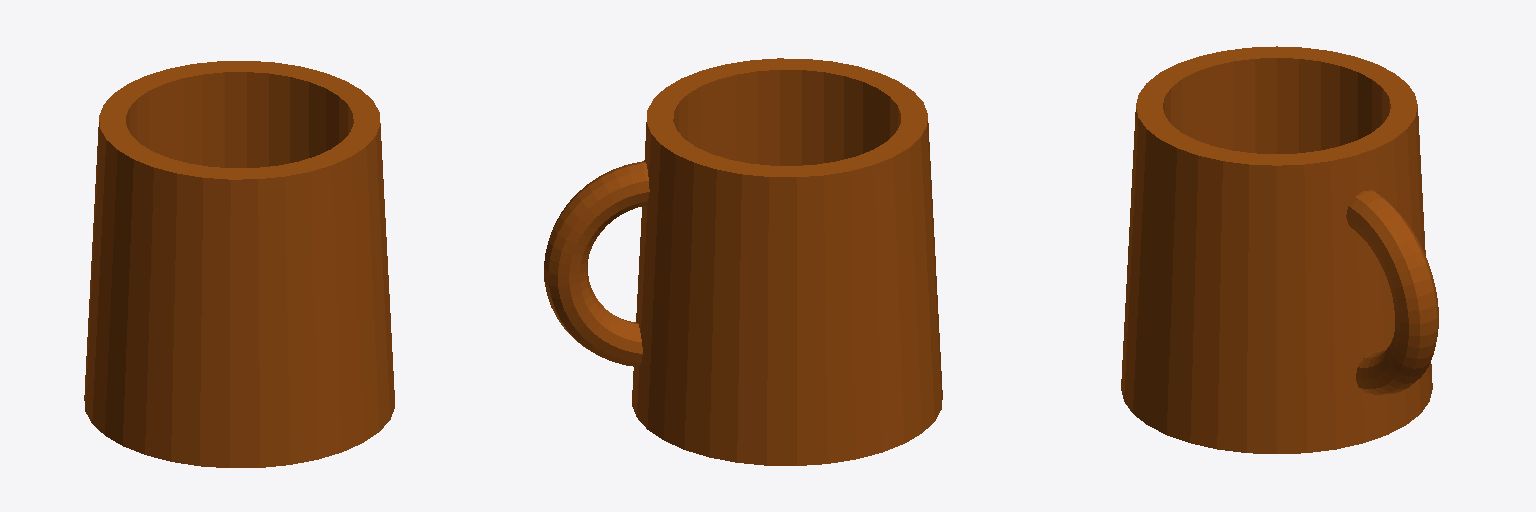
The model's file is cup.obj.
The picture shows the model from 3 angles: view 1: azimuth 30°, elevation 25°; view 2: azimuth 150°, elevation 25°; view 3: azimuth 270°, elevation 25°; orthographic projection.
Parts seen in each view (by area): view 1: Torus; view 2: Torus; view 3: Torus.
Part boxes in pixels (x1,y1,x2,y2): Torus: (84, 61, 394, 467); Torus: (544, 58, 942, 465); Torus: (1121, 46, 1438, 453).
Size of the model in its own units: 2.26 by 2 by 2.04.